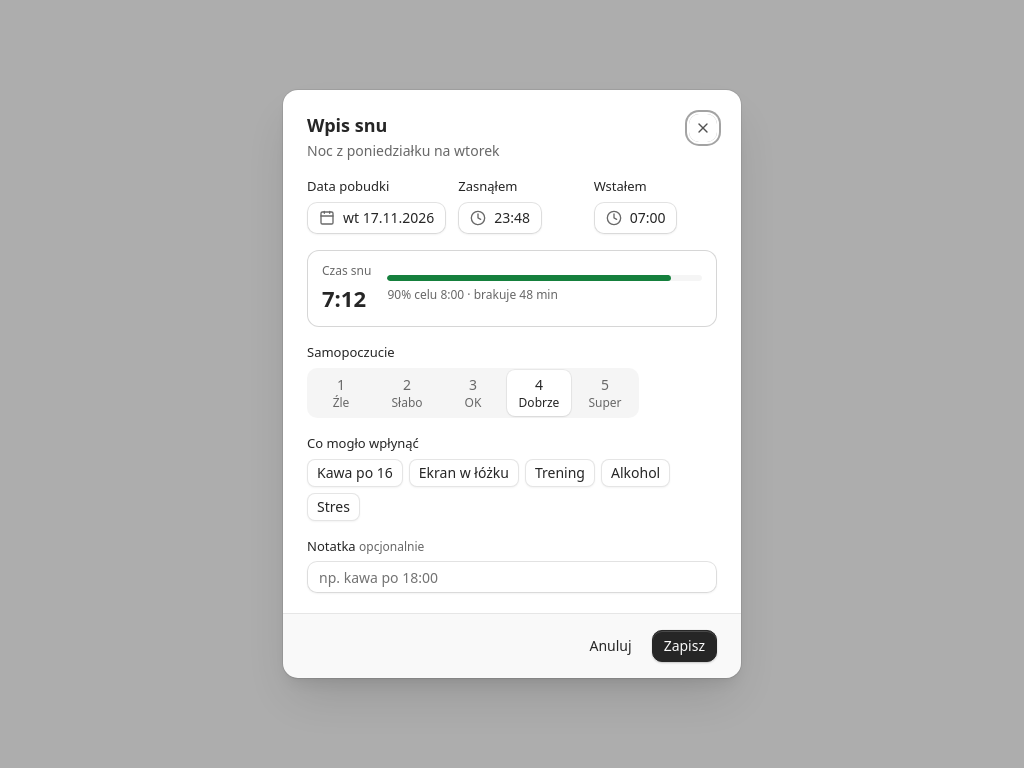
Test case: SleepDialog › zmiana daty z dnia z wpisem na dzień bez wpisu przywraca domyślne 23:00 → 07:00
The width and height of the screenshot is (1024, 768).
Click the radio button labelled "4 Dobrze" at (539, 393), box [507,370,571,416]
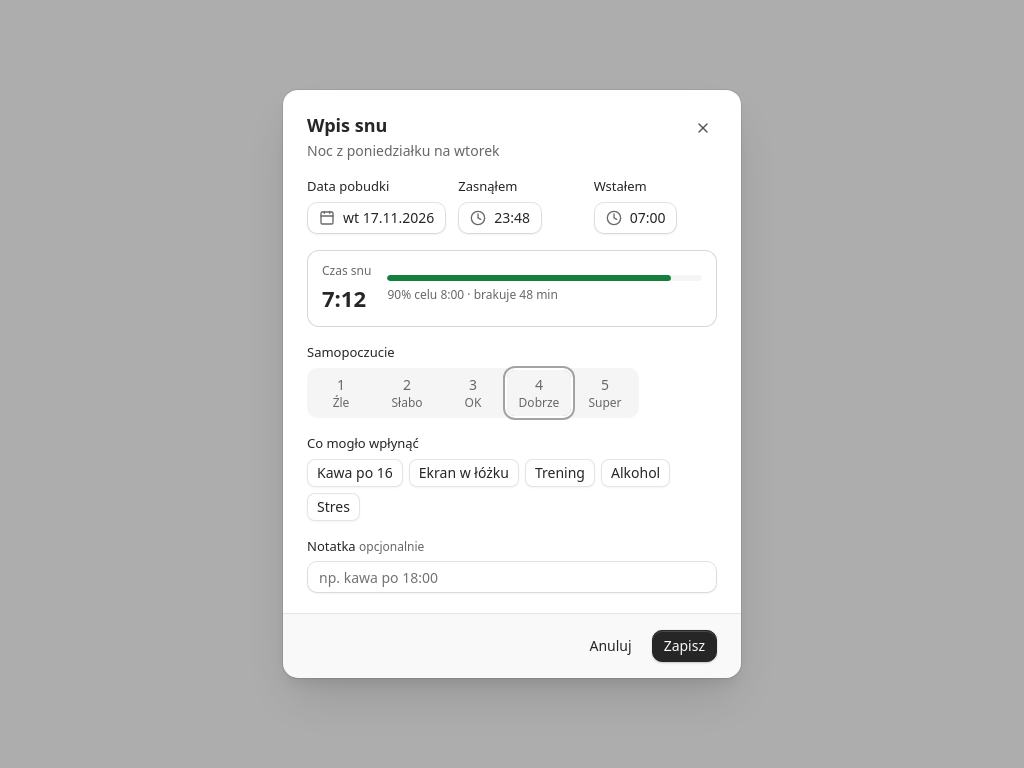
Click the button with aria-label "Data pobudki" at (377, 218), box [307,202,446,234]
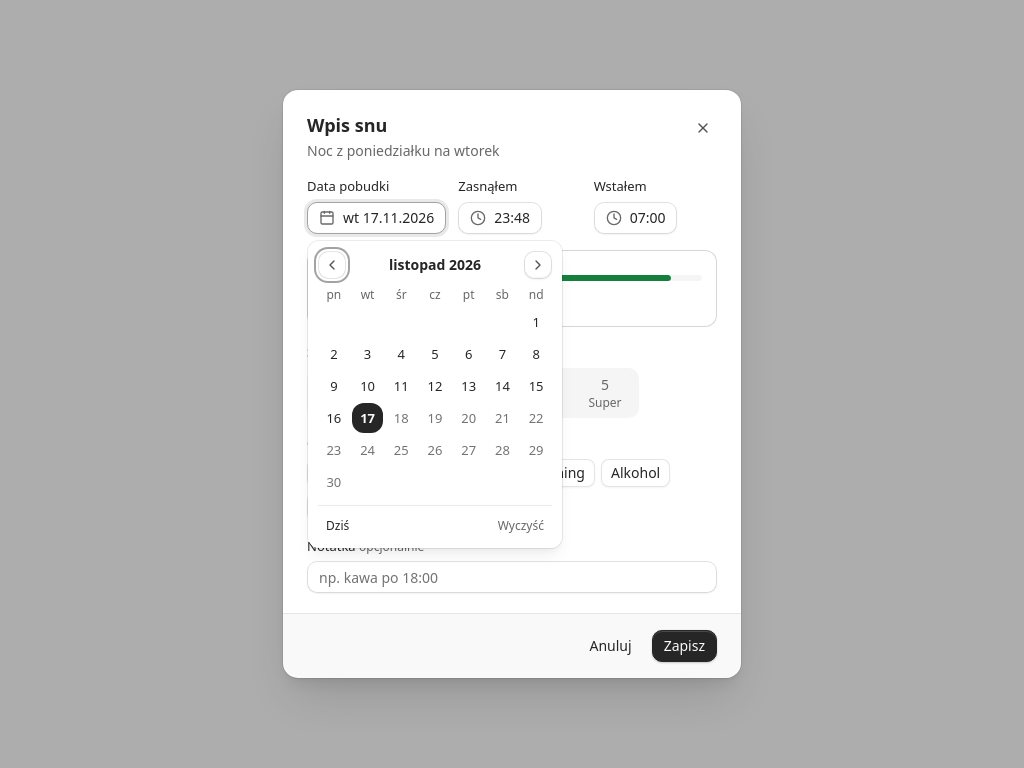
Click the button "15" at (536, 386), box [520,371,552,401]
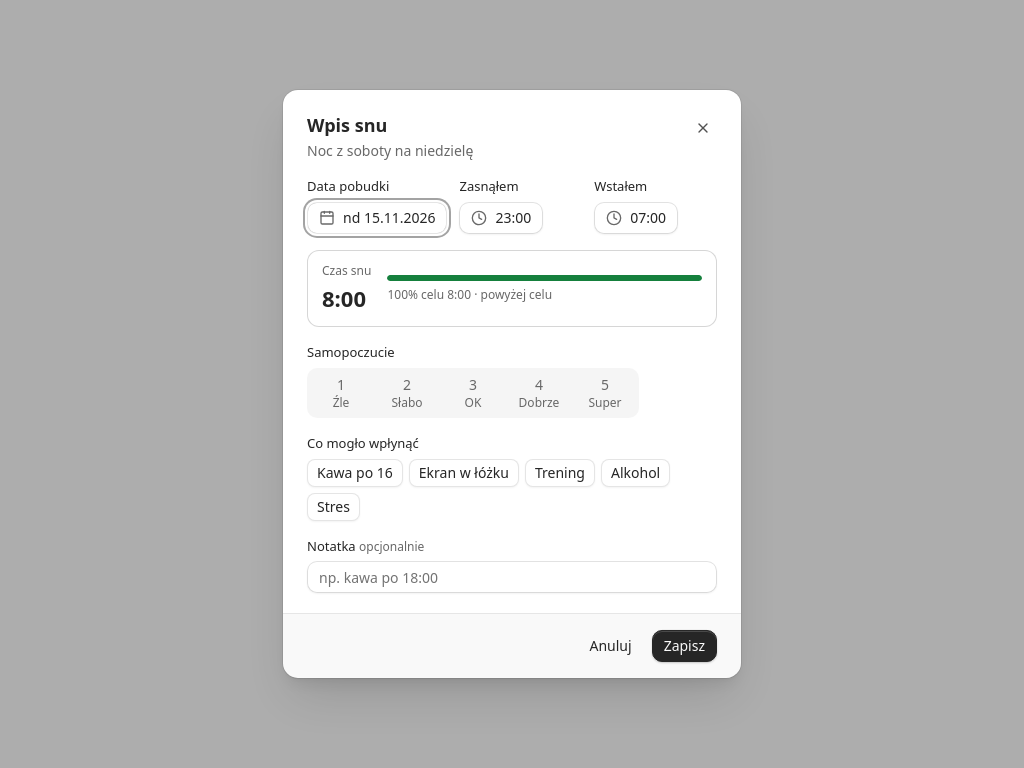
Expected: the button named "Wstałem" reads "07:00", [594,202,678,234]
Expected: the button named "Zasnąłem" reads "23:00", [460,202,543,234]
